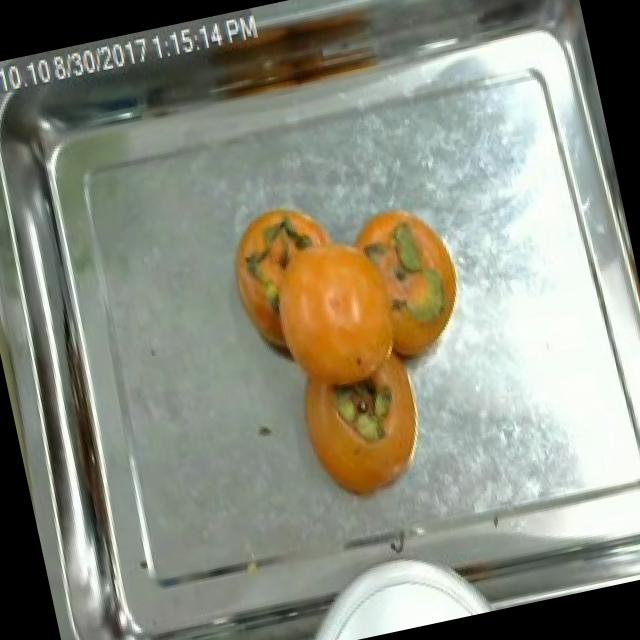Fruit: (276, 326, 448, 524), (338, 182, 482, 382)
